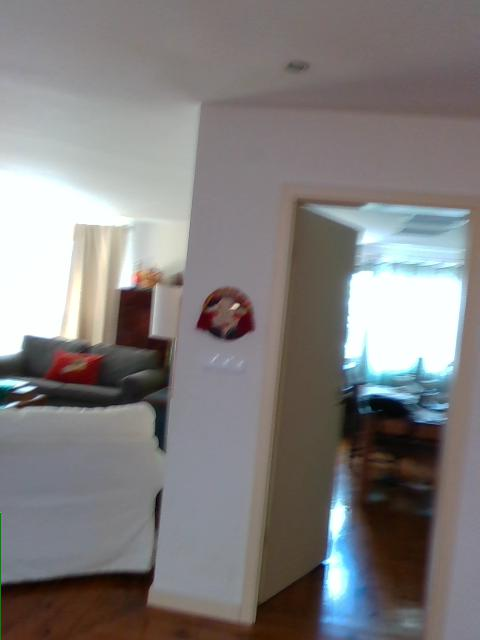open_door: (245, 188, 479, 631)
